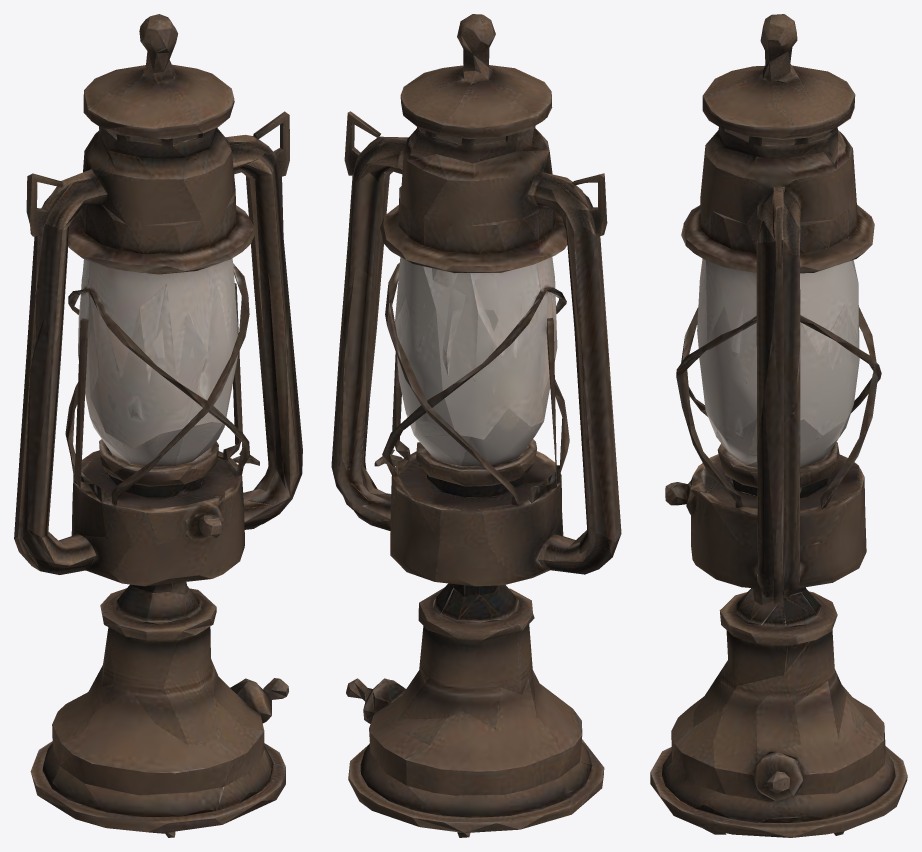
Rendered from lantern.glb.
The picture shows the model from 3 angles, left to right: view 1: azimuth 30°, elevation 25°; view 2: azimuth 150°, elevation 25°; view 3: azimuth 270°, elevation 25°; orthographic projection.
Bounding box in the file's own units: 0.7371 × 1.9 × 0.5713.
Materials: 1 (1 with a texture image).
